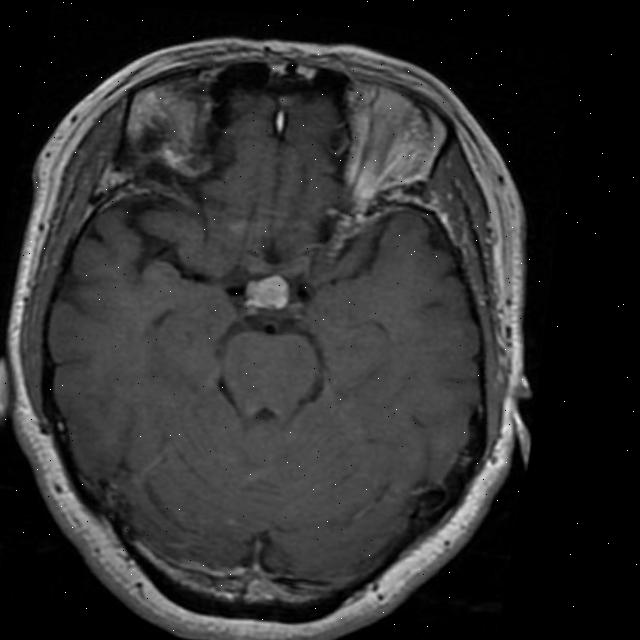Pituitary: (242, 270, 292, 313)
